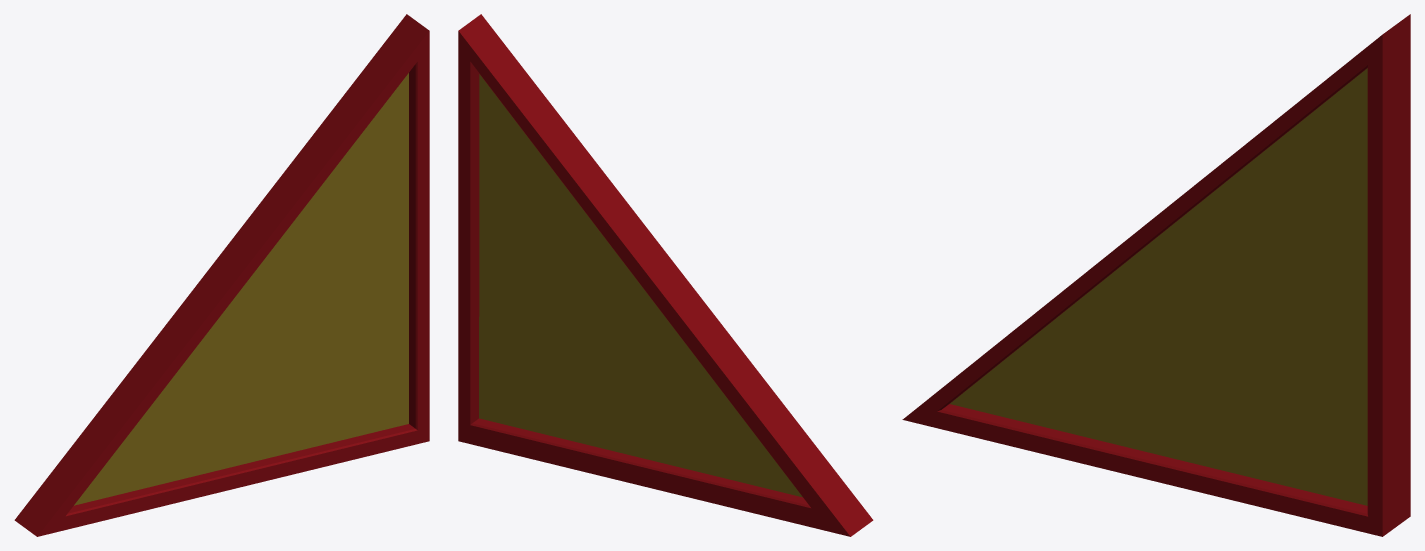
File: SM_MH_01_Plaster_Wall_Roof_L_01.fbx
3 renders of one model, left to right at view 1: azimuth 30°, elevation 25°; view 2: azimuth 150°, elevation 25°; view 3: azimuth 330°, elevation 25°, orthographic. The views are drawn at different scales.
Parts seen in each view (by area): view 1: SM_MH_01_Plaster_Wall_Roof_L_01_LOD0; view 2: SM_MH_01_Plaster_Wall_Roof_L_01_LOD0; view 3: SM_MH_01_Plaster_Wall_Roof_L_01_LOD0.
Part boxes in pixels (left/top/right/bottom): SM_MH_01_Plaster_Wall_Roof_L_01_LOD0: left=14, top=14, right=429, bottom=536; SM_MH_01_Plaster_Wall_Roof_L_01_LOD0: left=458, top=14, right=873, bottom=536; SM_MH_01_Plaster_Wall_Roof_L_01_LOD0: left=902, top=14, right=1410, bottom=536.
Size of what is drawn, in the model's own units: 300 by 300 by 30.2.
